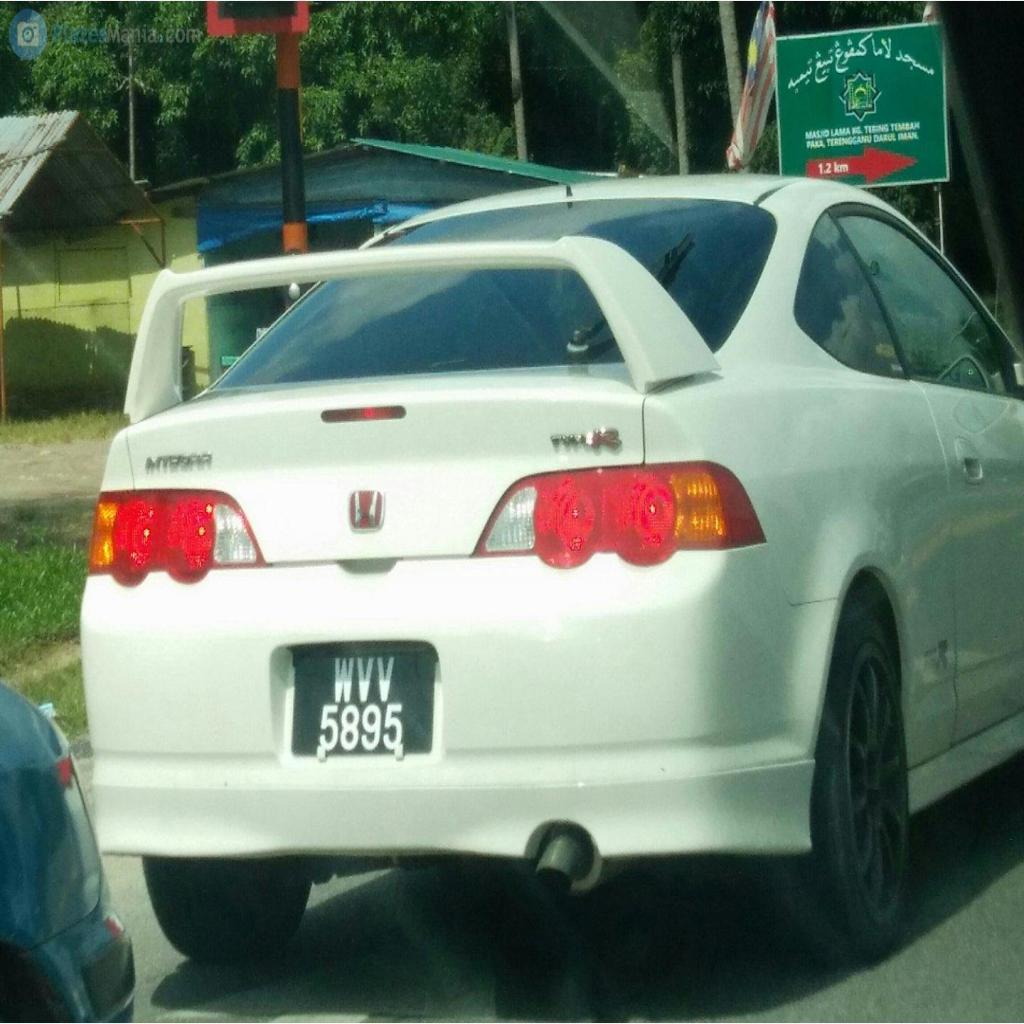car: (82, 174, 1023, 958)
car plate: (292, 643, 435, 757)
